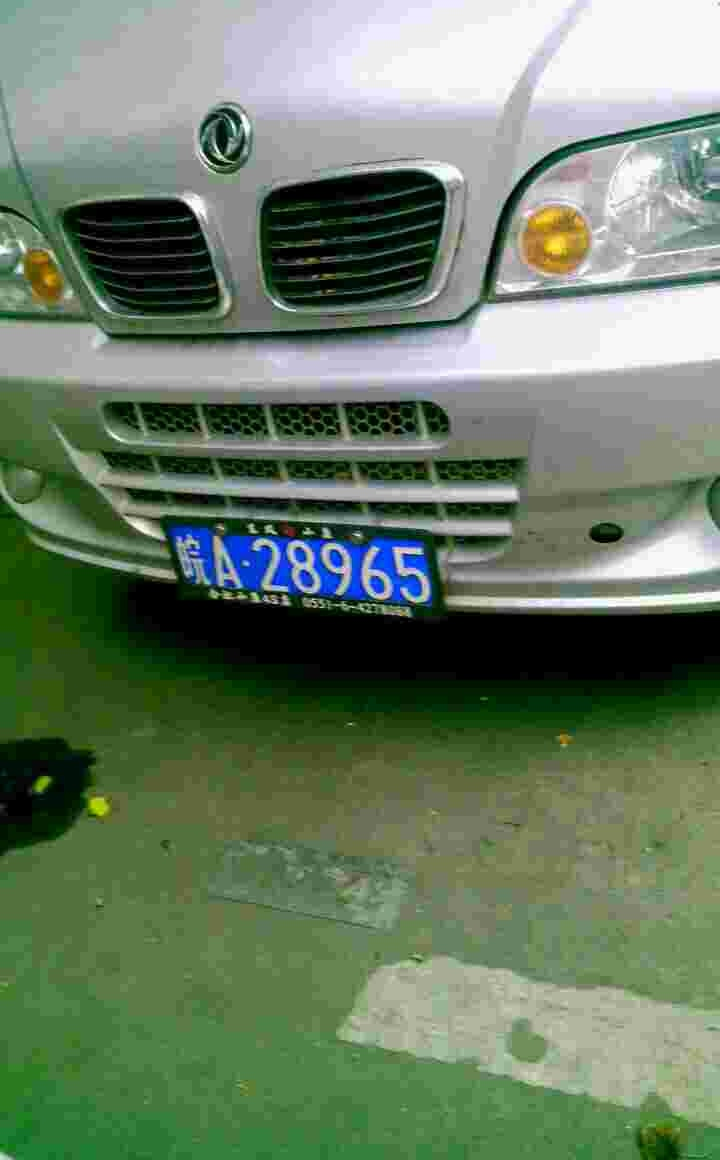license_plate: (166, 528, 439, 606)
